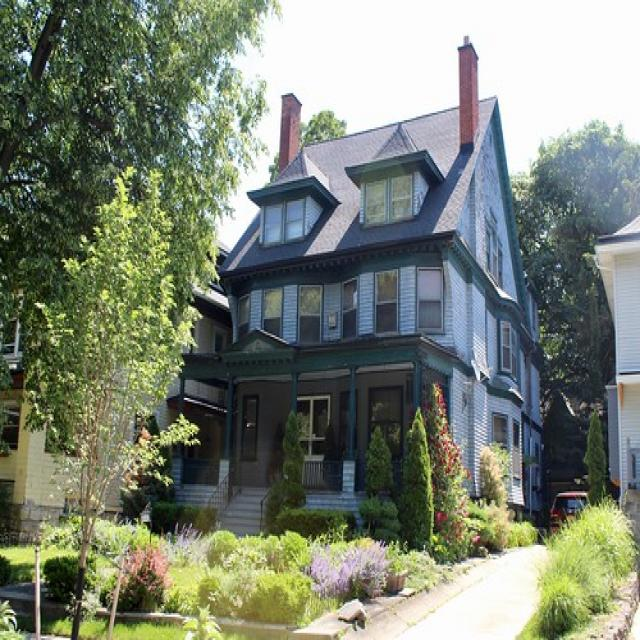Normal_building: (216, 54, 548, 556)
